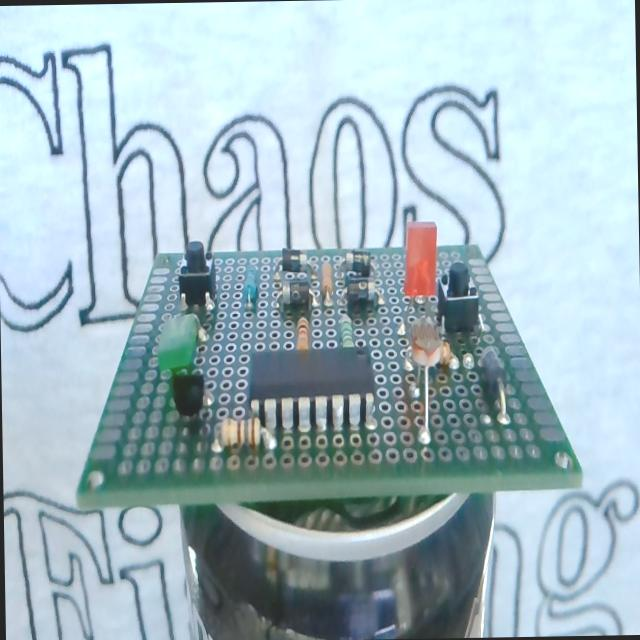IC: (248, 344, 372, 430)
cds: (408, 316, 443, 439)
diode: (477, 345, 507, 407), (280, 278, 311, 306), (346, 279, 378, 306), (345, 250, 372, 276), (282, 246, 304, 272)
led: (400, 222, 440, 338), (156, 312, 200, 372)
resistor: (217, 414, 265, 450), (243, 264, 258, 306), (338, 314, 354, 347), (295, 316, 309, 350), (322, 261, 334, 296)
switch: (437, 262, 479, 333), (178, 240, 215, 306)
transistor: (172, 370, 204, 418)
